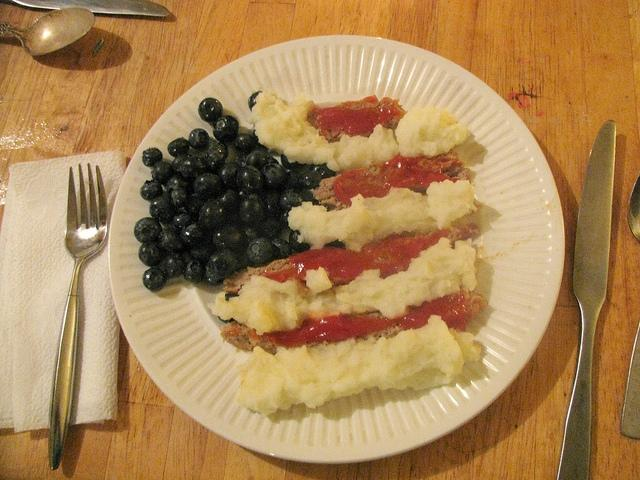blueberry: (207, 248, 236, 286), (212, 226, 248, 256), (198, 198, 230, 229), (175, 156, 207, 186), (246, 236, 274, 268), (260, 162, 288, 189), (149, 195, 176, 223), (212, 116, 240, 143), (237, 165, 263, 194), (160, 252, 187, 279), (134, 217, 162, 243), (194, 174, 222, 200), (150, 160, 177, 185), (240, 198, 264, 226), (179, 222, 206, 246), (218, 162, 240, 191), (138, 242, 164, 266), (198, 98, 224, 122), (142, 267, 168, 290), (158, 229, 182, 253), (204, 146, 224, 174), (296, 170, 322, 190), (289, 230, 311, 253), (280, 191, 304, 212), (140, 180, 163, 201), (184, 258, 203, 283), (188, 128, 210, 149), (166, 174, 190, 193), (221, 209, 245, 228), (246, 150, 268, 170), (233, 133, 256, 152), (185, 197, 208, 216), (189, 244, 216, 260), (142, 147, 163, 167), (261, 217, 281, 238), (220, 191, 240, 212), (272, 238, 292, 259), (168, 138, 190, 156), (170, 189, 188, 209), (172, 212, 194, 228), (262, 204, 282, 220), (248, 90, 262, 112), (275, 226, 292, 244), (321, 162, 336, 180), (181, 252, 192, 264), (286, 169, 292, 173)
